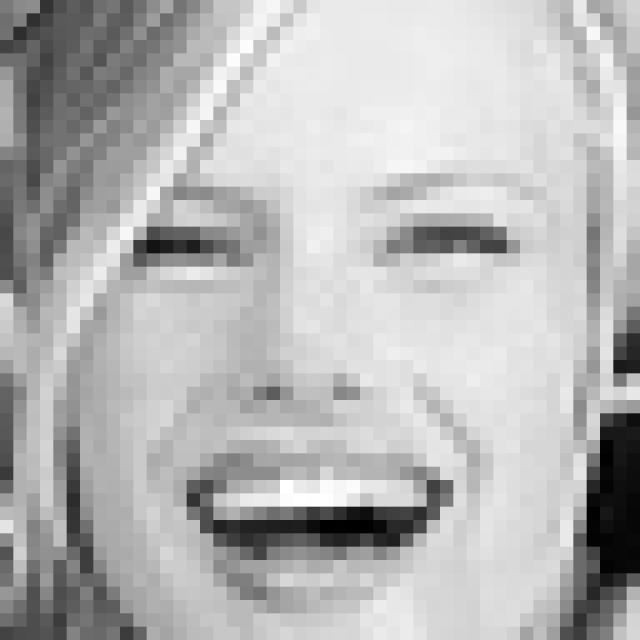happy: (136, 177, 569, 621)
